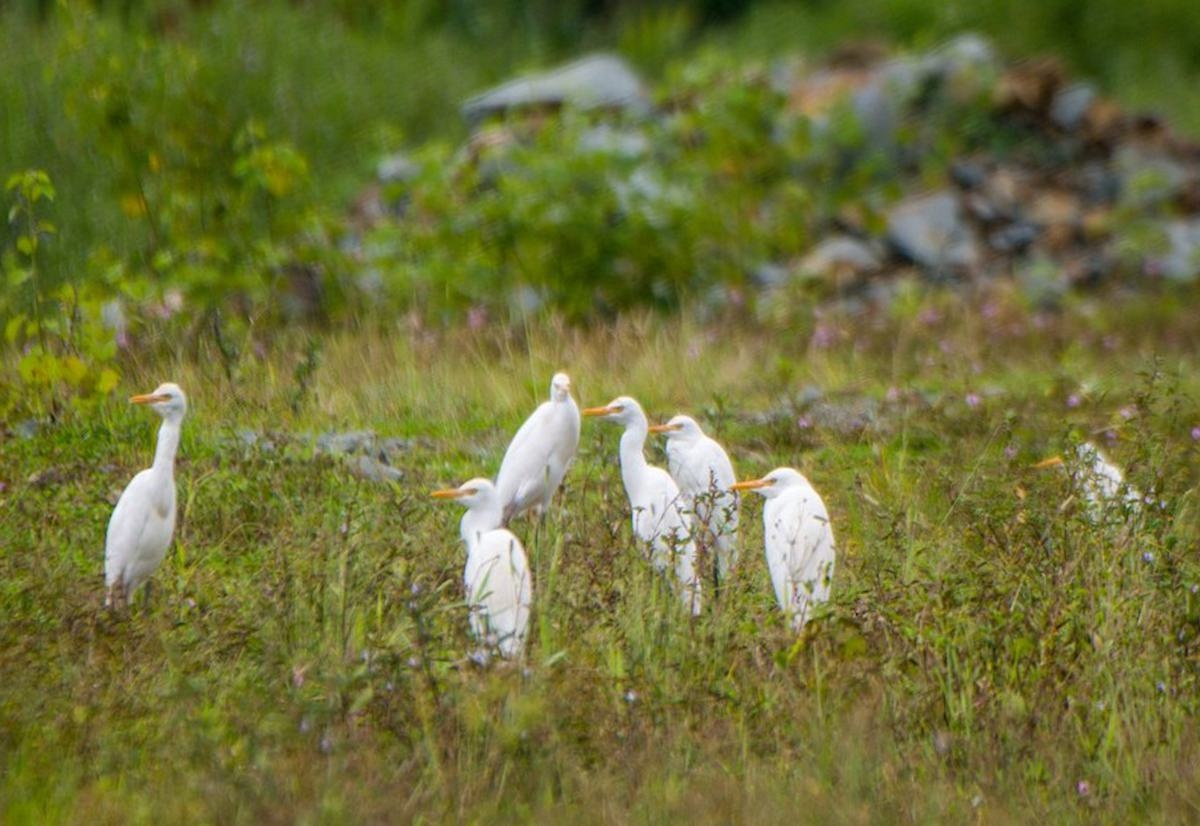egret: (430, 470, 559, 658), (115, 365, 216, 604), (584, 394, 693, 614), (730, 449, 852, 637), (654, 410, 755, 591)
